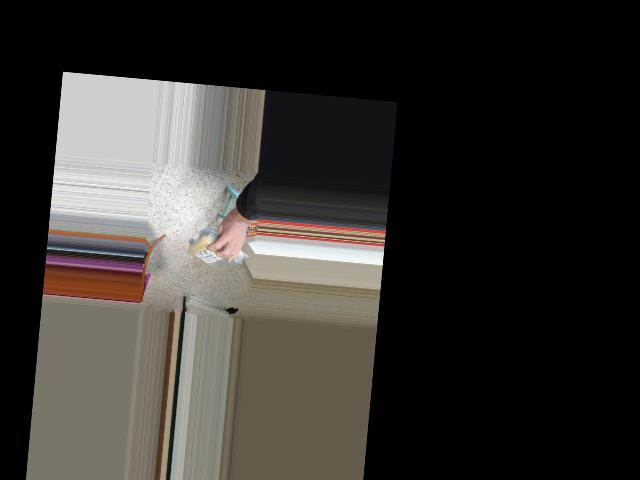cheese: (186, 233, 250, 268)
